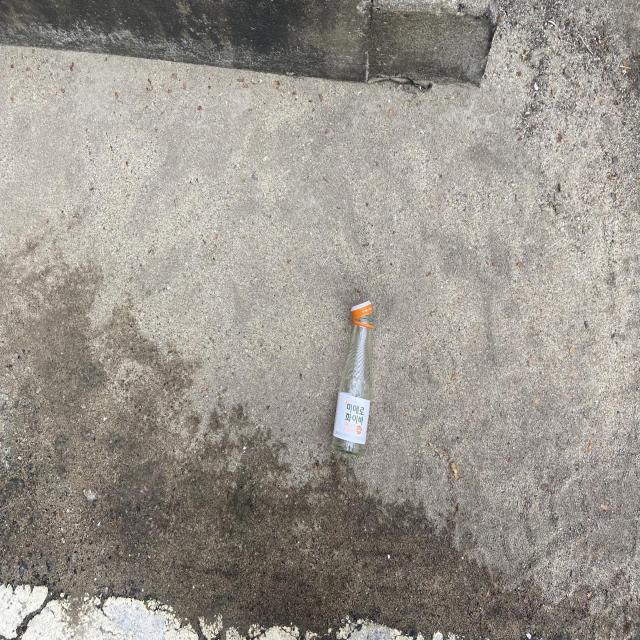glass: (332, 301, 374, 456)
